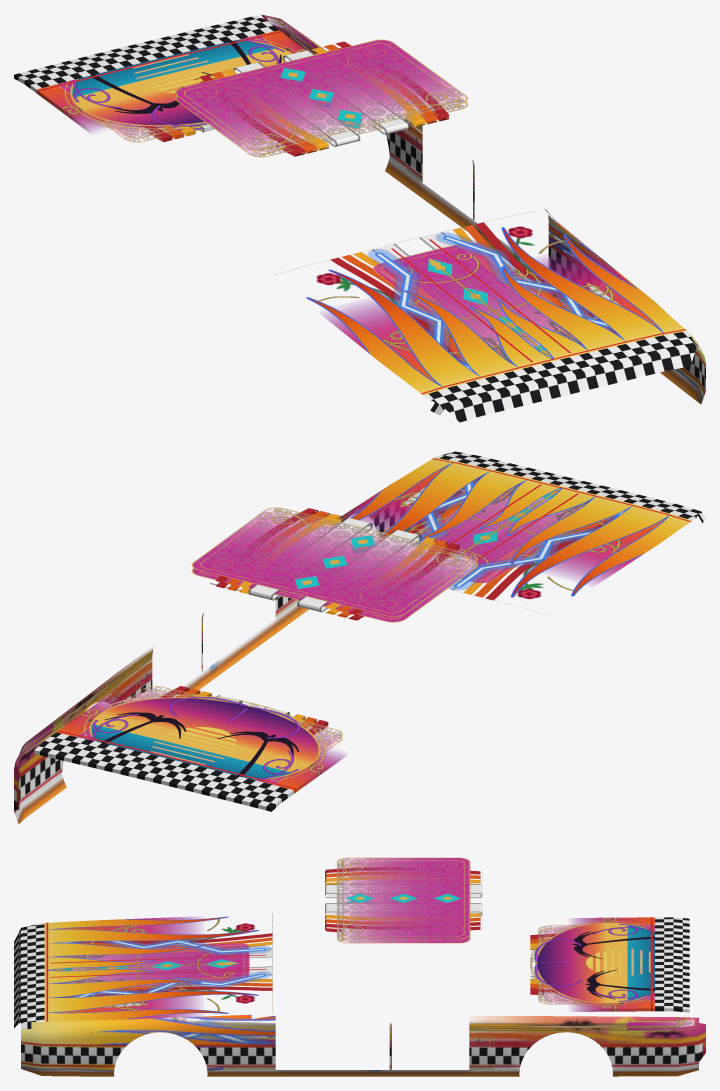
Rendered from PoliceCruiserVinyls.glb.
The picture shows the model from 3 angles, top to bottom: view 1: azimuth 30°, elevation 25°; view 2: azimuth 150°, elevation 25°; view 3: azimuth 270°, elevation 25°; orthographic projection. The views are drawn at different scales.
Visible parts, largest first — view 1: PoliceCruiserLivery_patterns_roof, PoliceCruiserLivery_flames_hood, PoliceCruiserLivery_purple_lace_roof, PoliceCruiserLivery_checker_hood, PoliceCruiserLivery_mural_trunk, PoliceCruiserLivery_patterns_hood, PoliceCruiserLivery_checker_trunk, PoliceCruiserLivery_lightning_hood, PoliceCruiserLivery_retro_waves_roof, PoliceCruiserLivery_purple_lace_hood, PoliceCruiserLivery_sunset_fade_hood, PoliceCruiserLivery_retro_waves_hood (+14 smaller); view 2: PoliceCruiserLivery_patterns_roof, PoliceCruiserLivery_flames_hood, PoliceCruiserLivery_mural_trunk, PoliceCruiserLivery_purple_lace_roof, PoliceCruiserLivery_checker_trunk, PoliceCruiserLivery_patterns_hood, PoliceCruiserLivery_retro_waves_roof, PoliceCruiserLivery_checker_hood, PoliceCruiserLivery_sunset_fade_hood, PoliceCruiserLivery_stripes_roof, PoliceCruiserLivery_purple_lace_hood, PoliceCruiserLivery_lightning_hood (+15 smaller); view 3: PoliceCruiserLivery_patterns_roof, PoliceCruiserLivery_flames_hood, PoliceCruiserLivery_mural_trunk, PoliceCruiserLivery_purple_lace_roof, PoliceCruiserLivery_checker_side, PoliceCruiserLivery_flames_side, PoliceCruiserLivery_patterns_hood, PoliceCruiserLivery_checker_hood, PoliceCruiserLivery_checker_trunk, PoliceCruiserLivery_sunset_fade_side, PoliceCruiserLivery_tropical_side, PoliceCruiserLivery_retro_waves_side (+23 smaller).
Part boxes in pixels (box(x1,y1,x2,y2)): PoliceCruiserLivery_patterns_roof: box(175, 39, 467, 157); PoliceCruiserLivery_flames_hood: box(306, 227, 686, 395); PoliceCruiserLivery_purple_lace_roof: box(179, 44, 464, 156); PoliceCruiserLivery_checker_hood: box(391, 239, 700, 422); PoliceCruiserLivery_mural_trunk: box(62, 37, 305, 132); PoliceCruiserLivery_patterns_hood: box(373, 242, 581, 360); PoliceCruiserLivery_checker_trunk: box(14, 15, 281, 94); PoliceCruiserLivery_lightning_hood: box(368, 232, 614, 370); PoliceCruiserLivery_retro_waves_roof: box(194, 41, 449, 156); PoliceCruiserLivery_purple_lace_hood: box(415, 255, 576, 359); PoliceCruiserLivery_sunset_fade_hood: box(325, 252, 658, 382); PoliceCruiserLivery_retro_waves_hood: box(330, 222, 618, 363); PoliceCruiserLivery_patterns_roof: box(192, 507, 477, 622); PoliceCruiserLivery_flames_hood: box(351, 457, 692, 597); PoliceCruiserLivery_mural_trunk: box(81, 695, 325, 782); PoliceCruiserLivery_purple_lace_roof: box(199, 508, 476, 618); PoliceCruiserLivery_checker_trunk: box(34, 730, 296, 811); PoliceCruiserLivery_patterns_hood: box(414, 486, 588, 583); PoliceCruiserLivery_retro_waves_roof: box(210, 508, 459, 620); PoliceCruiserLivery_checker_hood: box(432, 451, 705, 562); PoliceCruiserLivery_sunset_fade_hood: box(342, 466, 664, 582); PoliceCruiserLivery_stripes_roof: box(248, 517, 421, 612); PoliceCruiserLivery_purple_lace_hood: box(436, 486, 585, 563); PoliceCruiserLivery_lightning_hood: box(416, 478, 624, 589); PoliceCruiserLivery_patterns_roof: box(337, 857, 469, 943); PoliceCruiserLivery_flames_hood: box(44, 916, 258, 1021); PoliceCruiserLivery_mural_trunk: box(530, 917, 654, 1011); PoliceCruiserLivery_purple_lace_roof: box(338, 858, 459, 942); PoliceCruiserLivery_checker_side: box(21, 1039, 703, 1067); PoliceCruiserLivery_flames_side: box(21, 1014, 679, 1071); PoliceCruiserLivery_patterns_hood: box(55, 943, 249, 987); PoliceCruiserLivery_checker_hood: box(14, 922, 266, 1028); PoliceCruiserLivery_checker_trunk: box(650, 917, 689, 1012); PoliceCruiserLivery_sunset_fade_side: box(21, 1024, 705, 1076); PoliceCruiserLivery_tropical_side: box(476, 1016, 705, 1047); PoliceCruiserLivery_retro_waves_side: box(138, 1022, 705, 1055).
Bounding box in the file's own units: 7.04 × 3.99 × 19.8.
50 materials, 50 textured.
